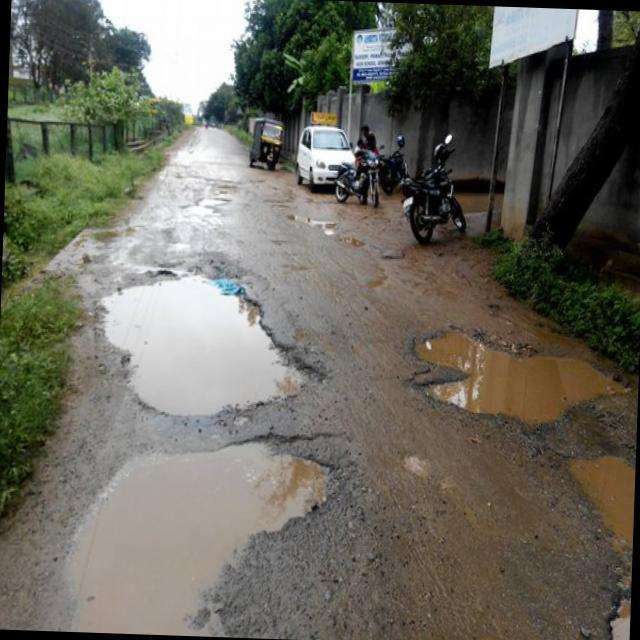Pothole: (78, 435, 328, 640), (93, 267, 330, 428), (401, 324, 632, 428), (556, 441, 636, 560), (606, 591, 630, 640)
